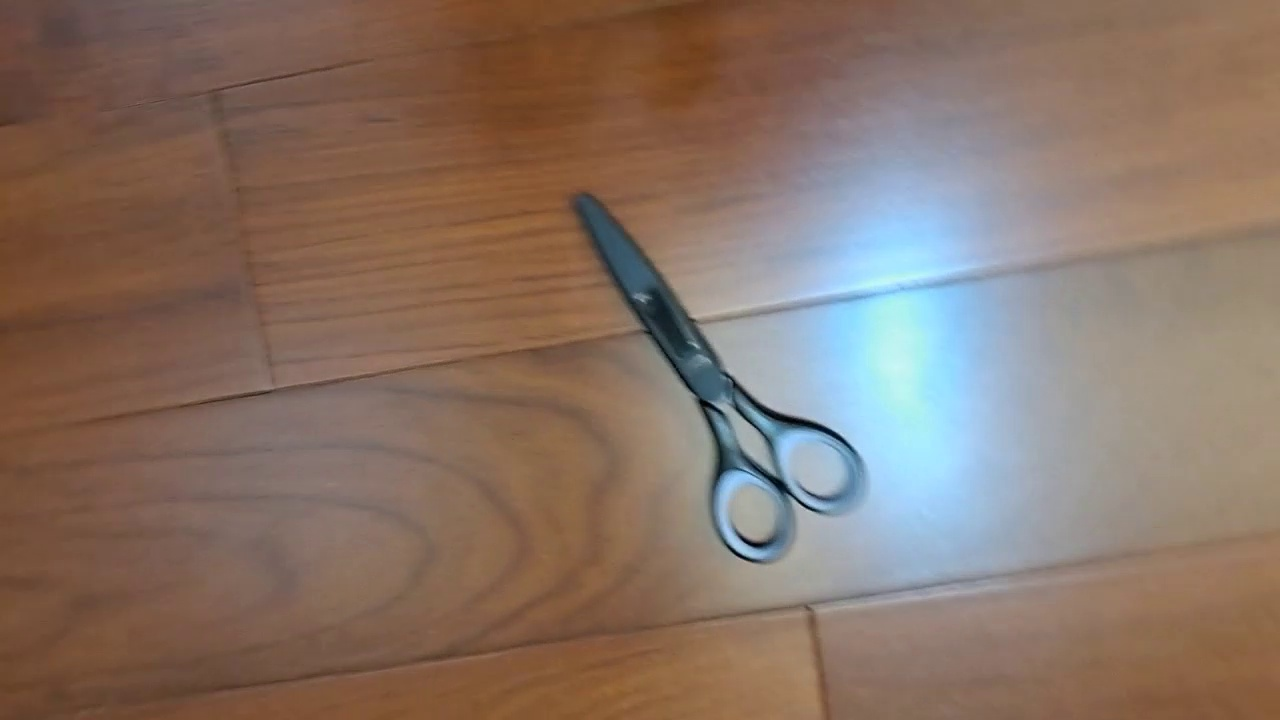scissors: (570, 188, 871, 564)
